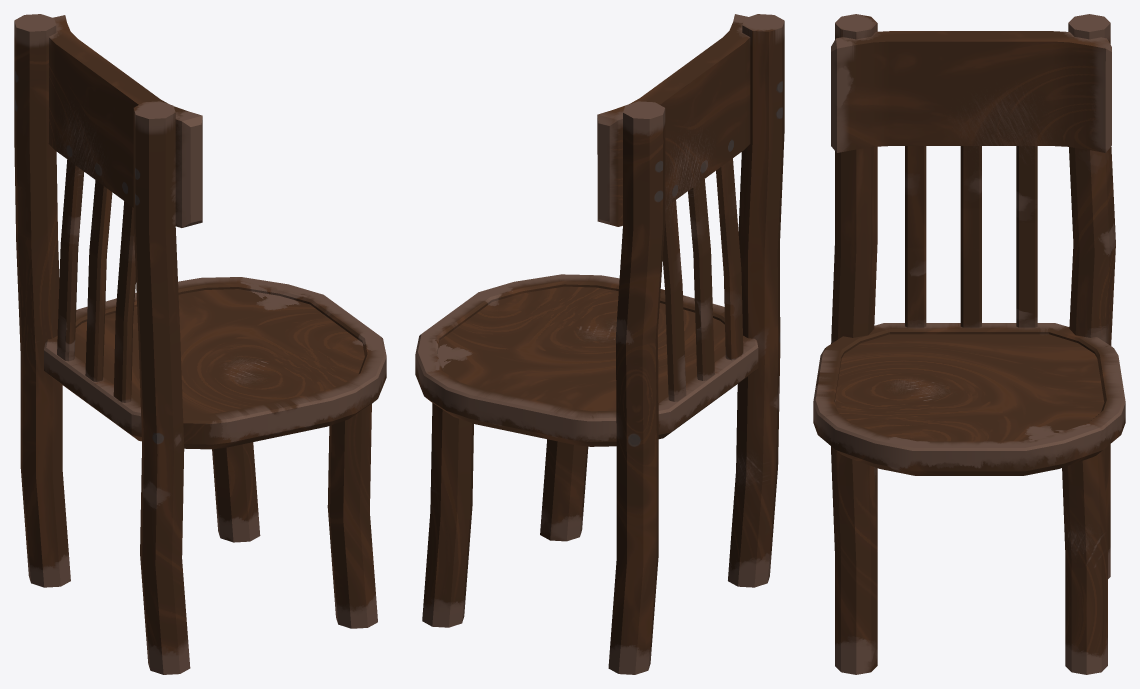
The model's file is stylized_old_medieval_chair_3d_model_low_poly.glb.
The picture shows the model from 3 angles, left to right: view 1: azimuth 30°, elevation 25°; view 2: azimuth 150°, elevation 25°; view 3: azimuth 270°, elevation 25°; orthographic projection. The views are drawn at different scales.
Visible parts, largest first — view 1: Object_2; view 2: Object_2; view 3: Object_2.
Boxes of the visible parts, <box> form: Object_2: <box>14,14,386,674</box>; Object_2: <box>415,14,784,674</box>; Object_2: <box>813,14,1125,674</box>.
Size of the model in its own units: 14.64 by 28.31 by 14.66.
Materials: 1 (1 with a texture image).
